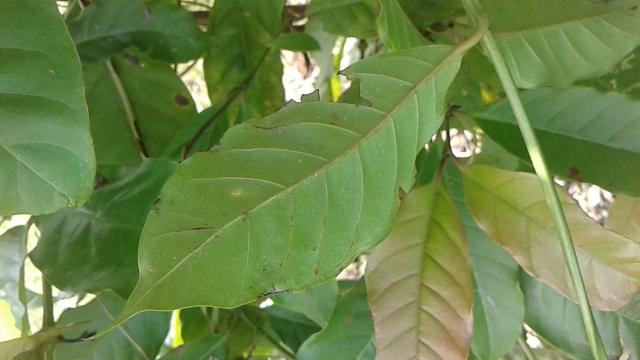rust_level_1: (98, 48, 465, 333)
